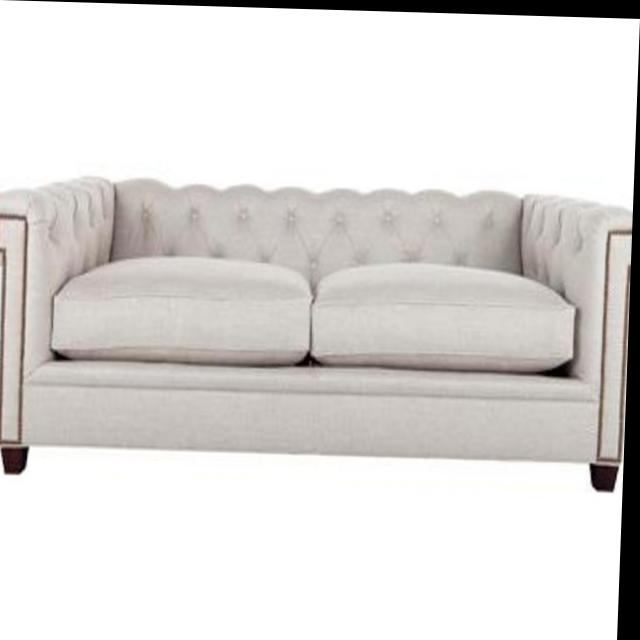Sofa: (0, 169, 635, 488)
